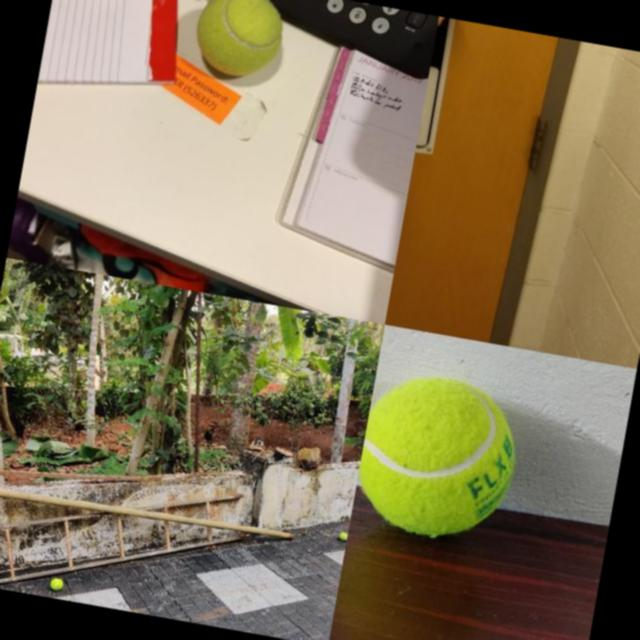tennis-ball: (349, 366, 528, 550), (187, 0, 289, 83), (50, 576, 64, 590), (338, 530, 347, 540)
